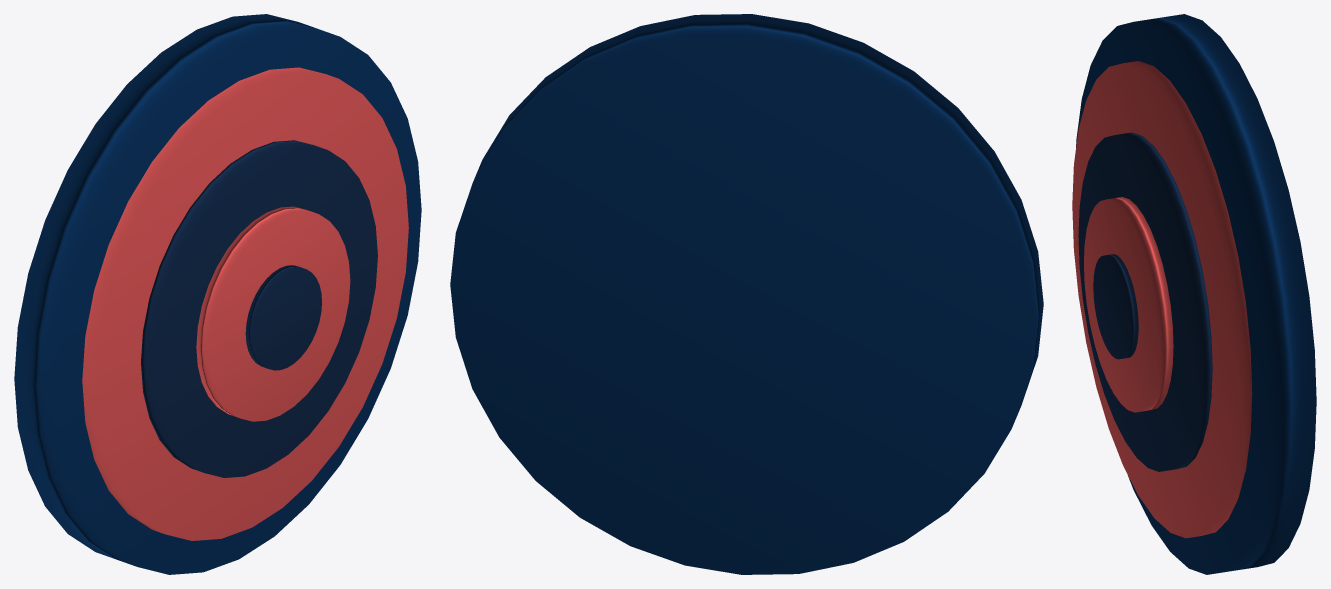
The model's file is target.glb.
3 views of the same model, side by side, from view 1: azimuth 30°, elevation 25°; view 2: azimuth 150°, elevation 25°; view 3: azimuth 270°, elevation 25° (orthographic). The views are drawn at different scales.
Visible parts, largest first — view 1: Cylinder.009; view 2: Cylinder.009; view 3: Cylinder.009.
Part boxes in pixels (x1=…): Cylinder.009: x1=14, y1=14, x2=421, y2=574; Cylinder.009: x1=450, y1=14, x2=1043, y2=574; Cylinder.009: x1=1072, y1=14, x2=1316, y2=574.
Bounding box in the file's own units: 2.92 × 3 × 1.31.
